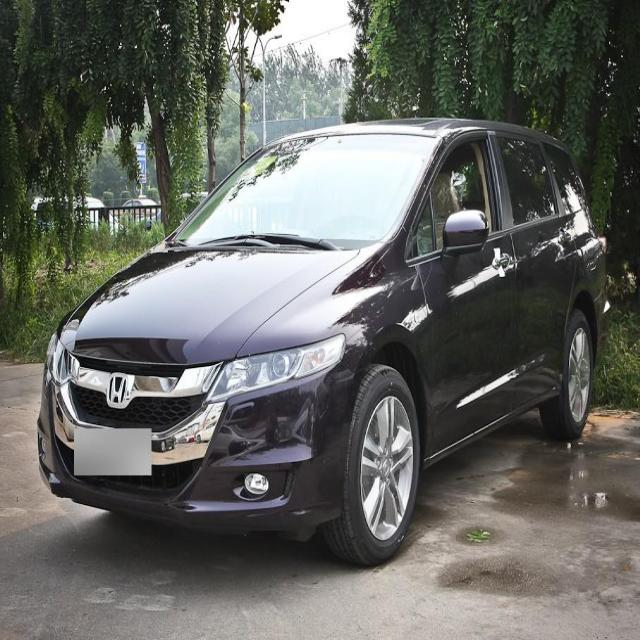door: (494, 130, 573, 393)
front_bumper: (34, 362, 357, 537)
front_glass: (162, 131, 442, 250)
front_left_side_door: (411, 129, 520, 467)
front_left_side_light: (204, 329, 348, 406)
front_left_side_mirror: (439, 208, 490, 268)
front_right_side_light: (46, 329, 77, 392)
wheel: (322, 368, 420, 566), (538, 314, 593, 438)
